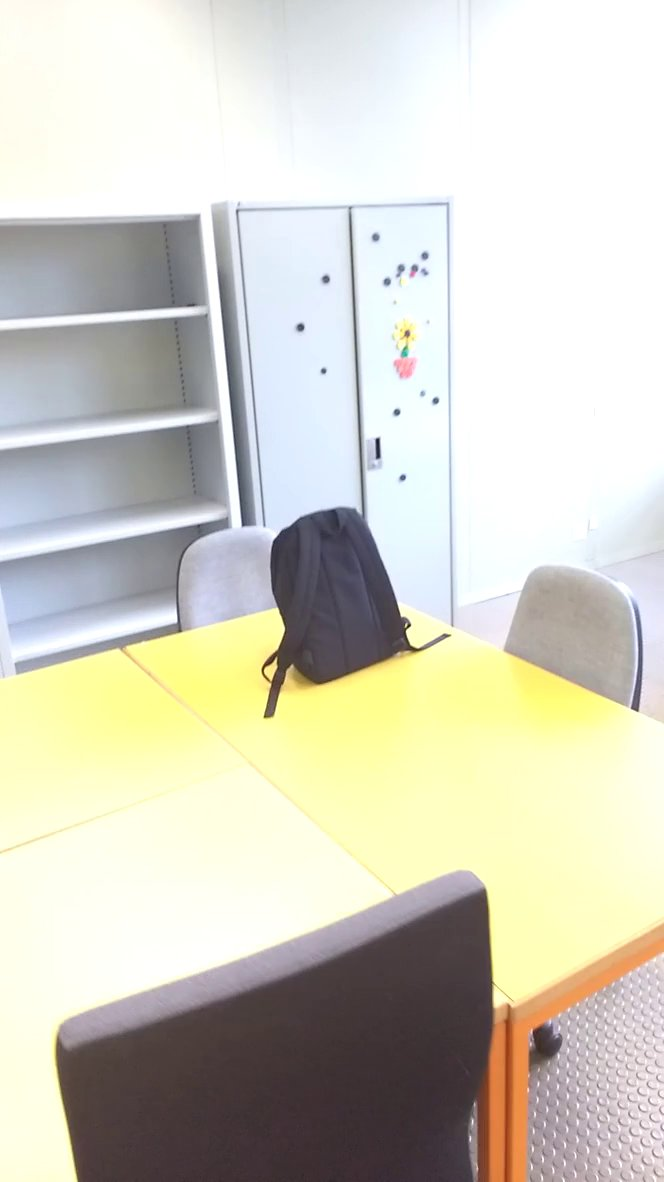bag: (259, 496, 451, 722)
chair: (27, 861, 549, 1182), (488, 556, 664, 742), (165, 518, 323, 640)
